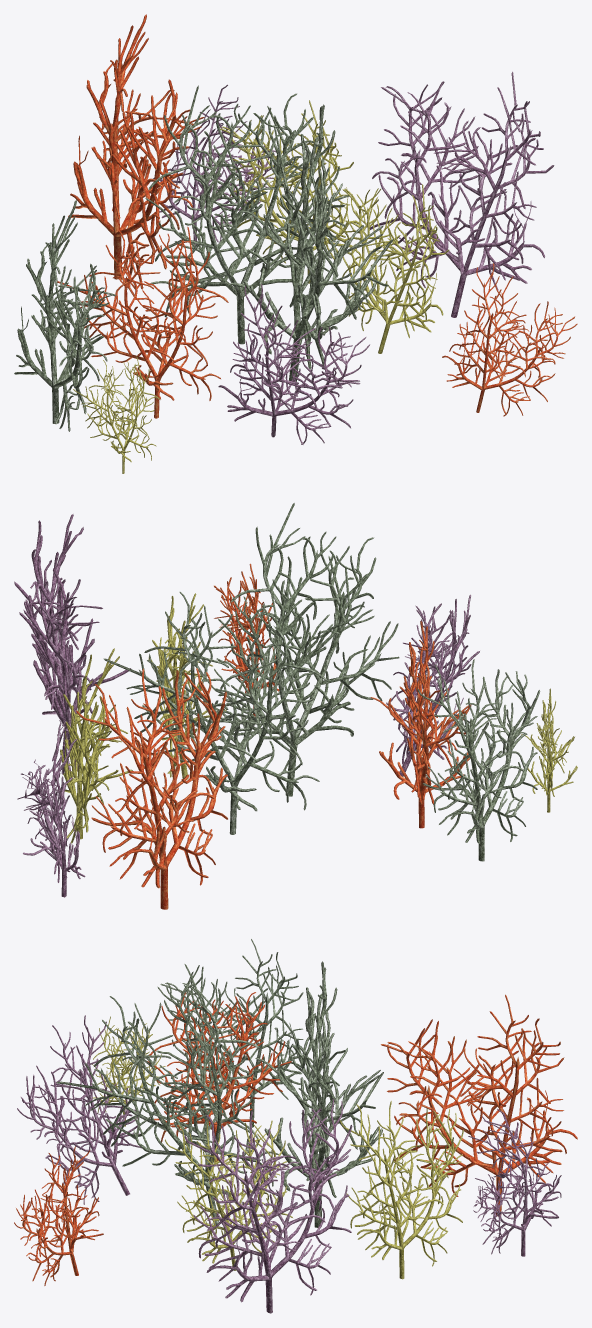
File: fan_coral_med.glb
The picture shows the model from 3 angles, top to bottom: view 1: azimuth 30°, elevation 25°; view 2: azimuth 150°, elevation 25°; view 3: azimuth 270°, elevation 25°; orthographic projection. The views are drawn at different scales.
Parts seen in each view (by area): view 1: LOD0; view 2: LOD0; view 3: LOD0.
Part boxes in pixels (x1=…): LOD0: x1=14, y1=14, x2=577, y2=473; LOD0: x1=14, y1=503, x2=577, y2=909; LOD0: x1=14, y1=939, x2=577, y2=1313.
Size of the model in its own units: 0.1298 by 0.0694 by 0.1322.
Materials: 4 (4 with a texture image).
